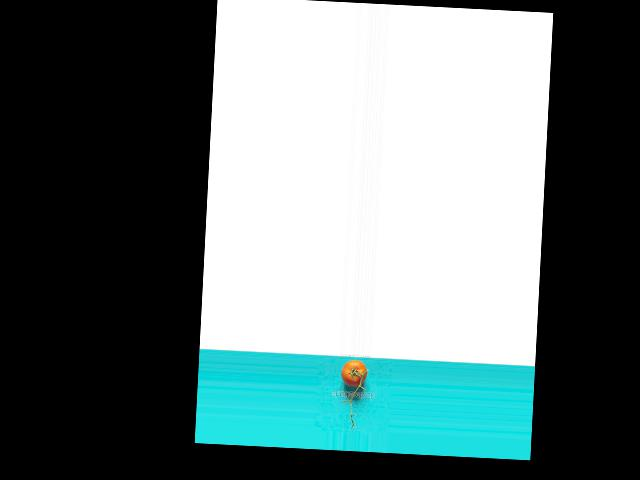tomato: (341, 360, 368, 386)
